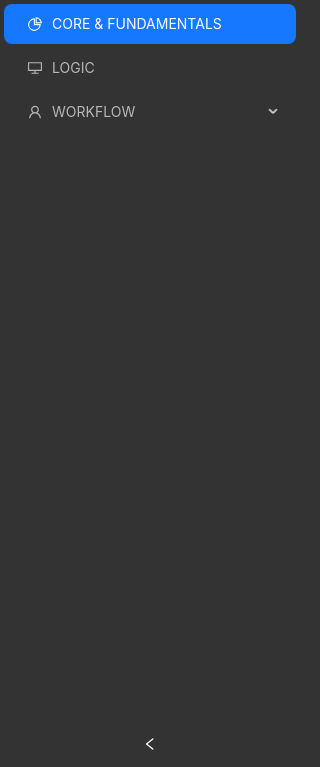
renders submenu items under WORKFLOW when expanded
What coordinates should you click on to do the following:
click the menu item "WORKFLOW"
I would click on:
 (82, 112)
Its box is [28, 103, 135, 120].
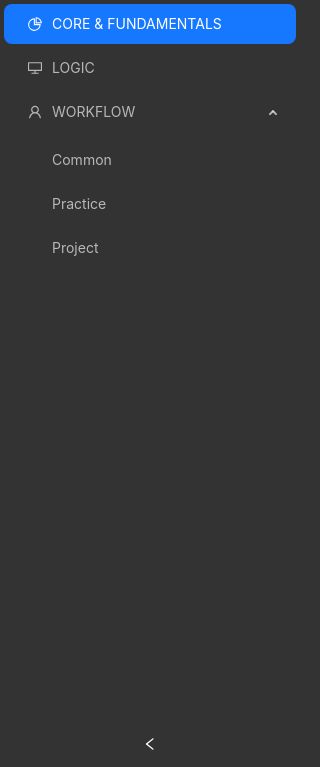
expect the text "Common" is shown: met, box [52, 151, 112, 168]
expect the text "Practice" is shown: met, box [52, 195, 106, 212]
expect the text "Project" is shown: met, box [52, 239, 98, 256]
